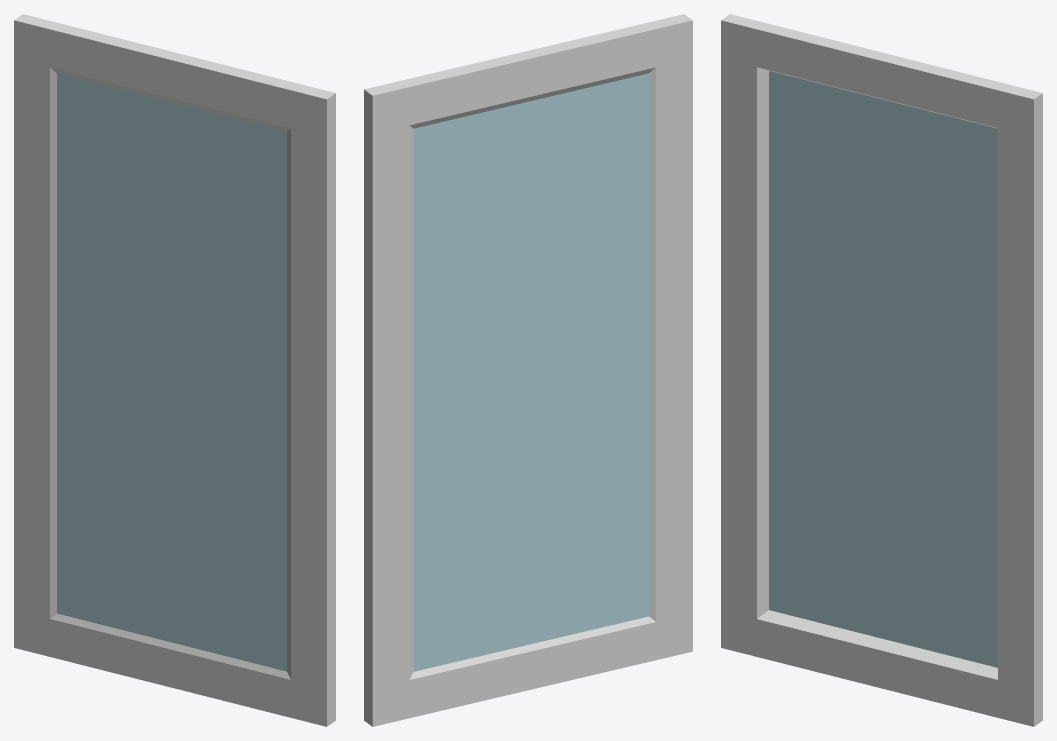
The model's file is DeurH.gltf.
The picture shows the model from 3 angles, left to right: view 1: azimuth 90°, elevation 25°; view 2: azimuth 150°, elevation 25°; view 3: azimuth 270°, elevation 25°; orthographic projection.
Visible parts, largest first — view 1: Cube.010; view 2: Cube.010; view 3: Cube.010.
Part boxes in pixels (box(x1,y1,x2,y2)): Cube.010: box(14, 14, 335, 726); Cube.010: box(364, 14, 692, 726); Cube.010: box(721, 14, 1042, 726).
Bounding box in the file's own units: 1.47 × 5.03 × 2.34.
